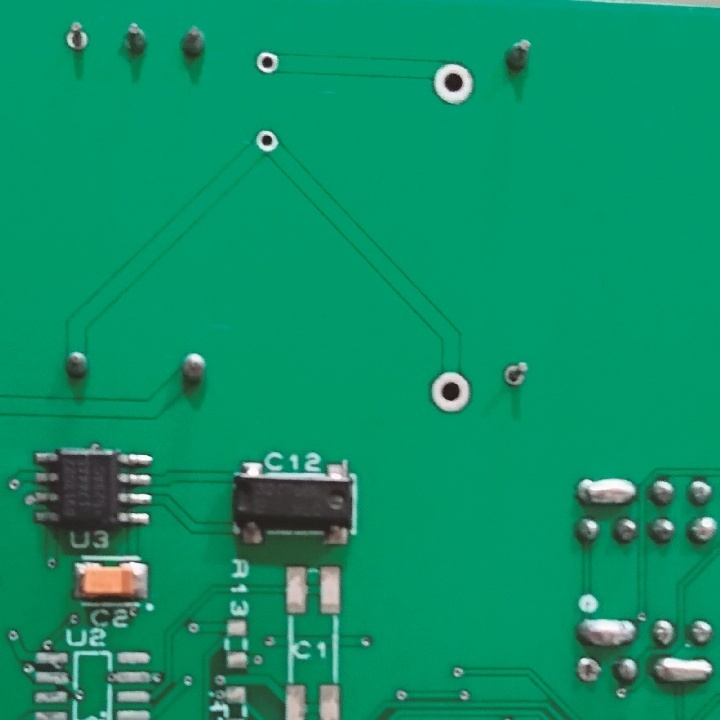F: (430, 59, 478, 110), (428, 368, 477, 415), (63, 18, 90, 57), (253, 127, 283, 160), (501, 357, 530, 391), (573, 655, 603, 686), (253, 50, 281, 76)
P: (650, 651, 715, 689), (575, 614, 640, 649), (575, 473, 636, 510)
